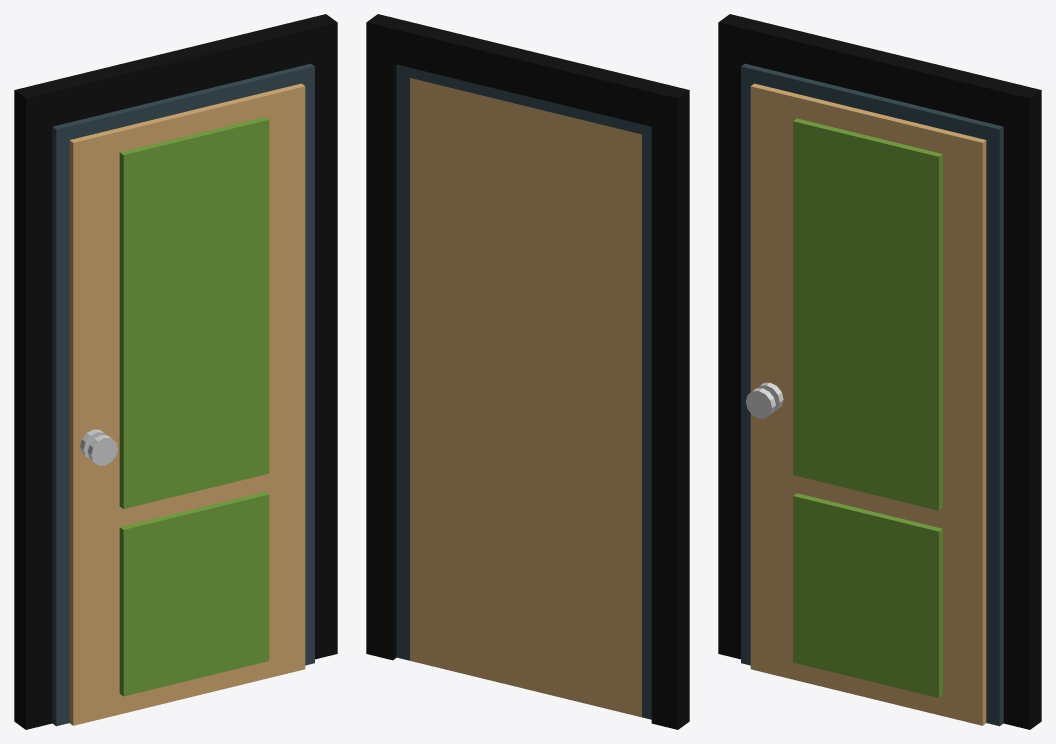
3 views of the same model, side by side, from view 1: azimuth 30°, elevation 25°; view 2: azimuth 150°, elevation 25°; view 3: azimuth 330°, elevation 25° (orthographic).
Visible parts, largest first — view 1: node_MeshObject-107834368-PolyPaper18; view 2: node_MeshObject-107834368-PolyPaper18; view 3: node_MeshObject-107834368-PolyPaper18.
Boxes of the visible parts, left/top/right/bottom form: node_MeshObject-107834368-PolyPaper18: left=14, top=14, right=337, bottom=729; node_MeshObject-107834368-PolyPaper18: left=366, top=14, right=689, bottom=729; node_MeshObject-107834368-PolyPaper18: left=718, top=14, right=1041, bottom=729.
Size of the model in its own units: 0.47 by 0.91 by 0.08.
